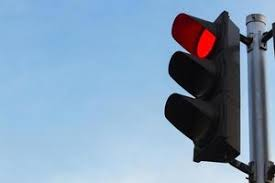red: (167, 11, 241, 163)
